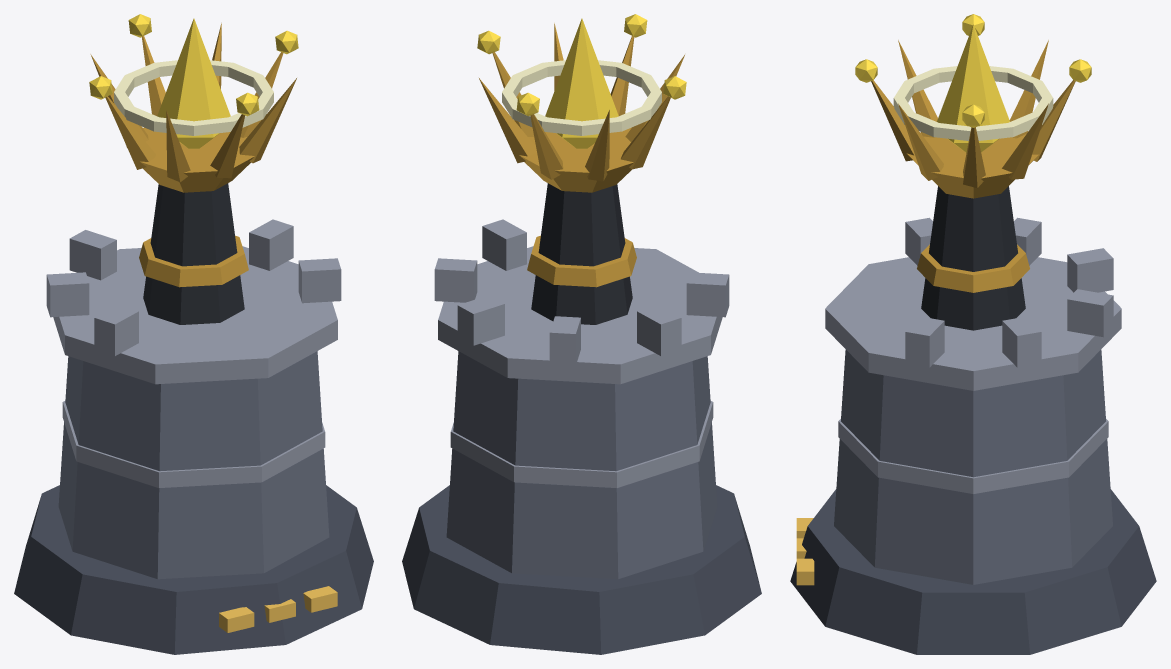
The model's file is storm-spire-2.glb.
3 renders of one model, left to right at view 1: azimuth 30°, elevation 25°; view 2: azimuth 150°, elevation 25°; view 3: azimuth 270°, elevation 25°, orthographic.
Parts seen in each view (by area): view 1: storm-spire-2; view 2: storm-spire-2; view 3: storm-spire-2.
Boxes of the visible parts, x1,y1,x2,y2 form: storm-spire-2: (14, 14, 373, 654); storm-spire-2: (402, 14, 761, 654); storm-spire-2: (790, 14, 1156, 654).
Size of the model in its own units: 0.7989 by 1.41 by 0.84.
Materials: 1 (1 with a texture image).
